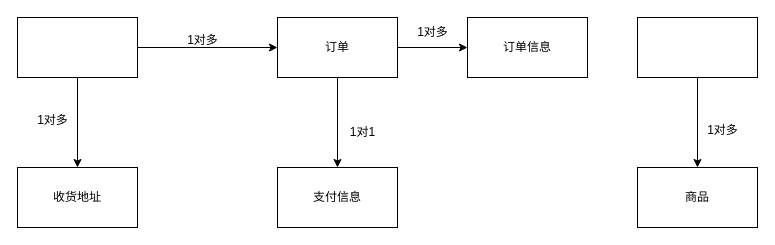
The diagram is 775 pixels wide and 245 high, and some of its shapes have lost their labels. The centre of each missing label's shape, as x and y in pixels:
"分类" belongs at [697,47].
"用户" belongs at [77,47].
